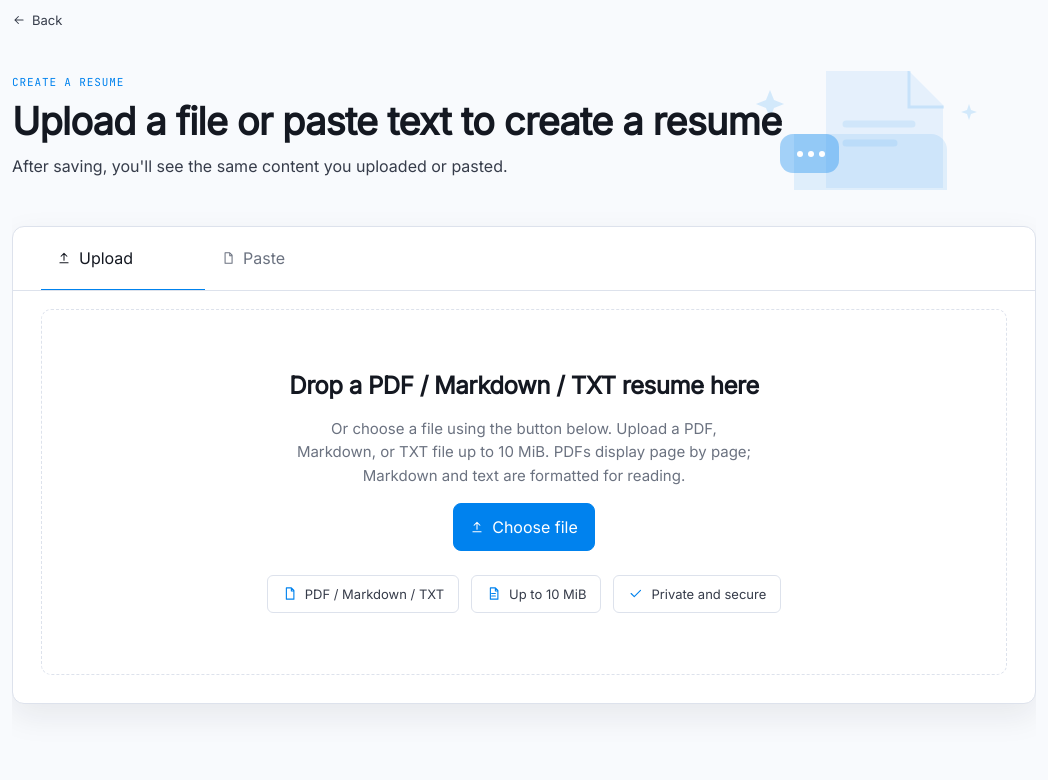
ResumeCreateFlow container › preserves paste raw text when switching tab away and back (input retained for cancel-from-parse path)
The image size is (1048, 780).
Click the tab with test id "resume-create-tab-paste" at (287, 259), box [205,227,369,291]
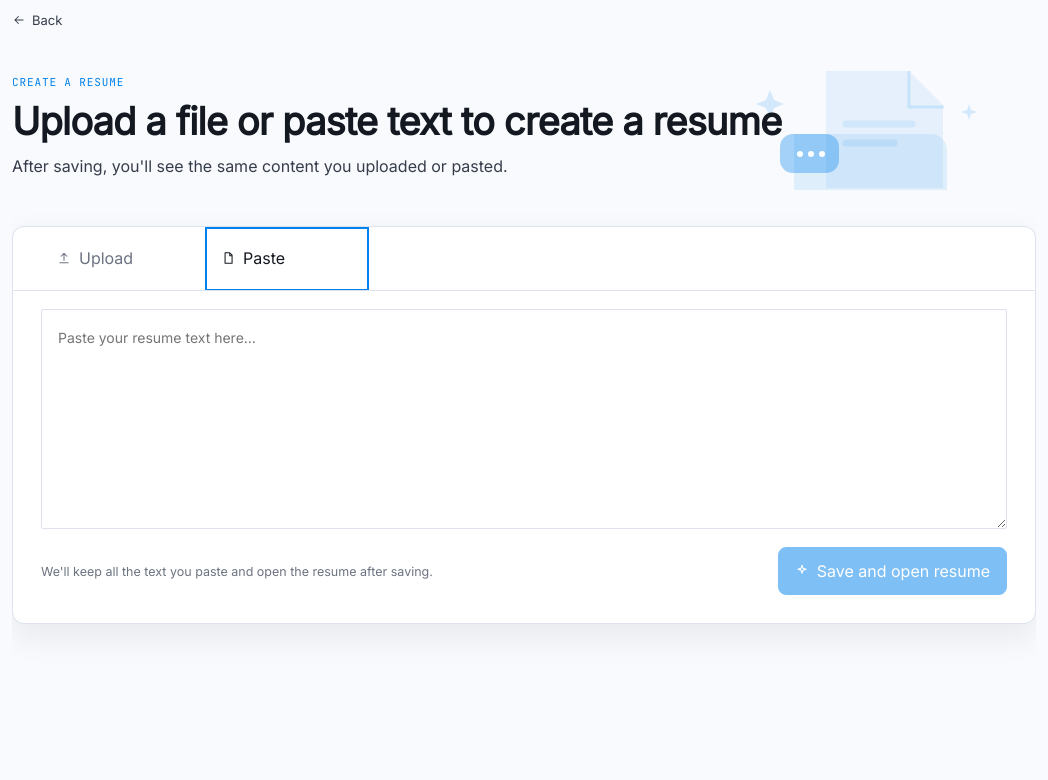
Type "alpha beta gamma" into the text box with test id "resume-create-paste-textarea" at (524, 419), box [41,309,1007,529]
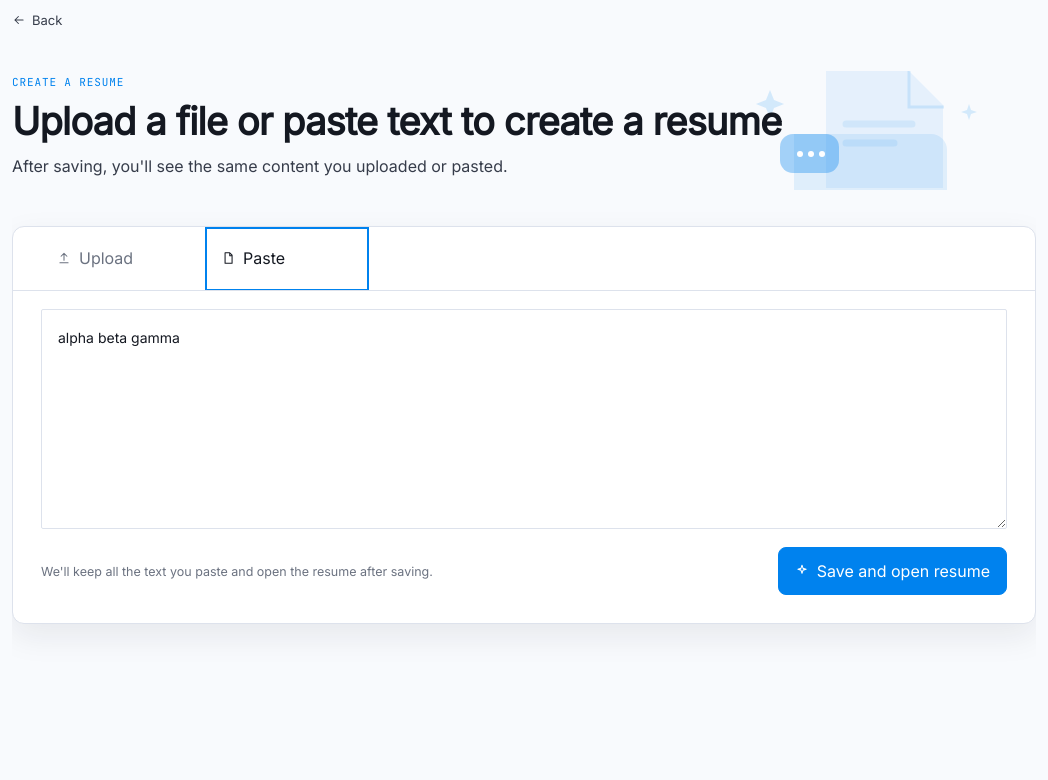
Click the tab with test id "resume-create-tab-upload" at (123, 259), box [41,227,205,291]
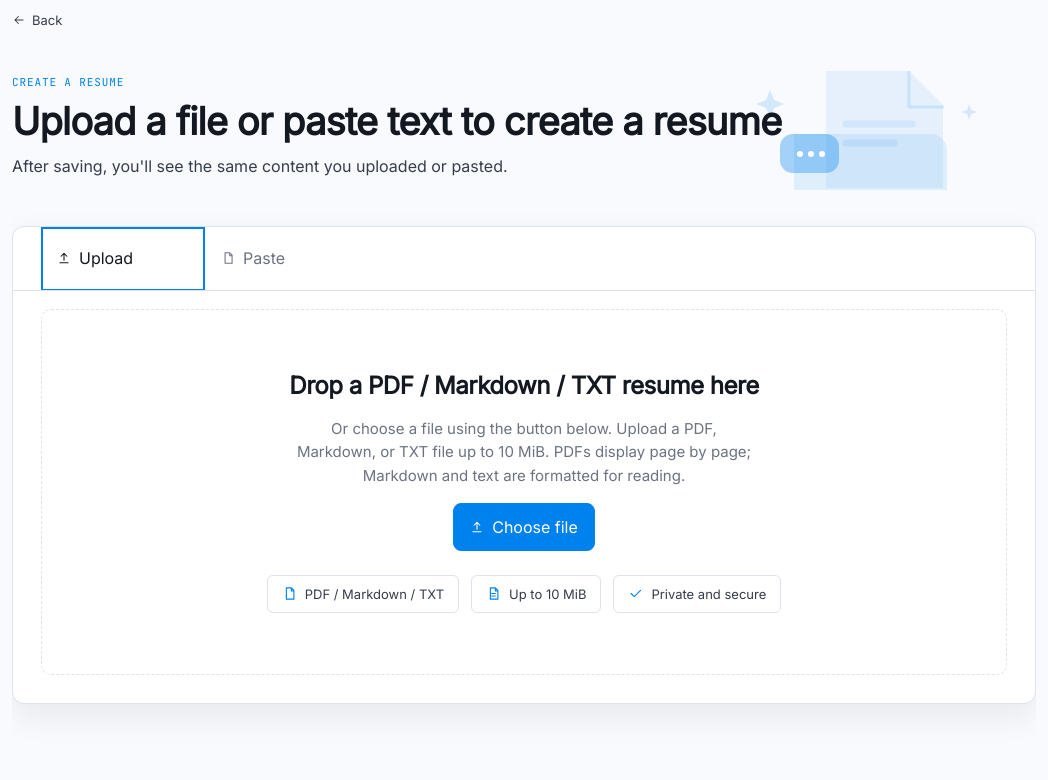
Click the tab with test id "resume-create-tab-paste" at (287, 259), box [205,227,369,291]
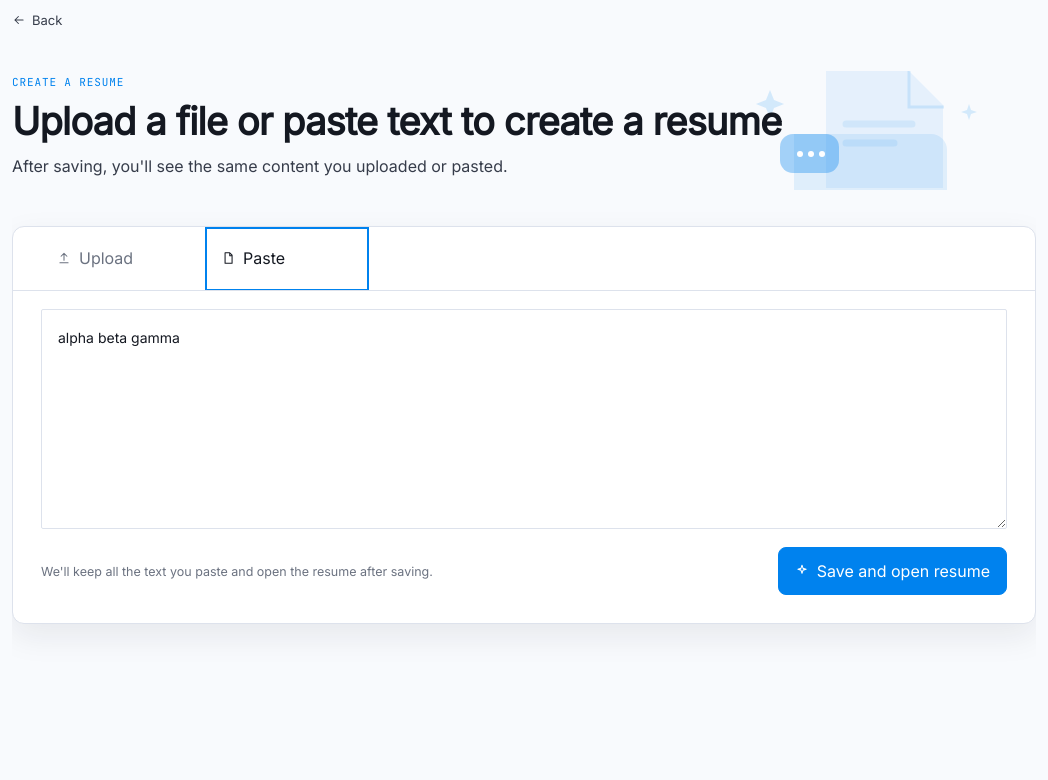
Check: the text box with test id "resume-create-paste-textarea" holds "alpha beta gamma", box [41,309,1007,529]
